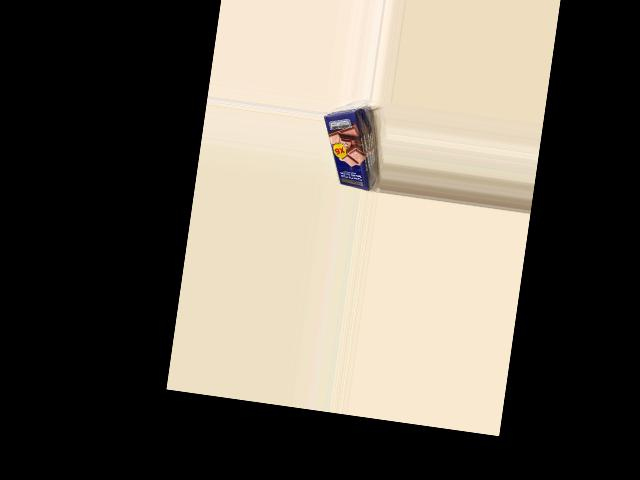chocolate: (313, 105, 385, 191)
